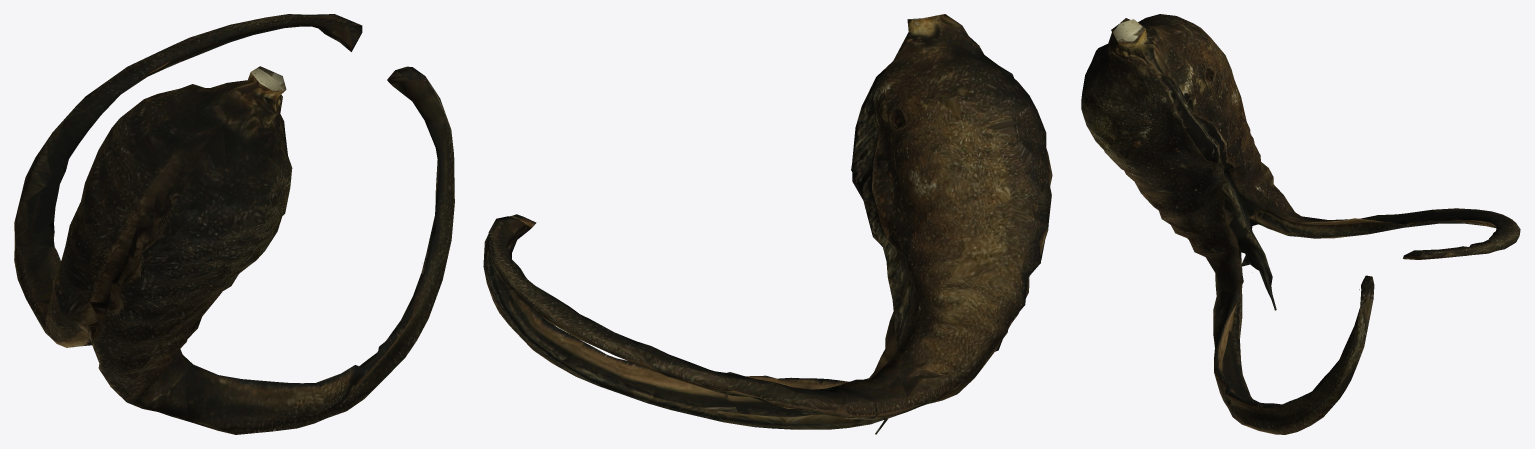
File: Ram's Horn 2.gltf
The picture shows the model from 3 angles, left to right: view 1: azimuth 30°, elevation 25°; view 2: azimuth 150°, elevation 25°; view 3: azimuth 270°, elevation 25°; orthographic projection. The views are drawn at different scales.
Parts seen in each view (by area): view 1: node-0; view 2: node-0; view 3: node-0.
Boxes of the visible parts, <box> form: node-0: <box>14,14,454,434</box>; node-0: <box>483,14,1052,434</box>; node-0: <box>1081,14,1520,434</box>.
Bounding box in the file's own units: 0.8129 × 0.6742 × 0.7972.
Materials: 1 (1 with a texture image).
